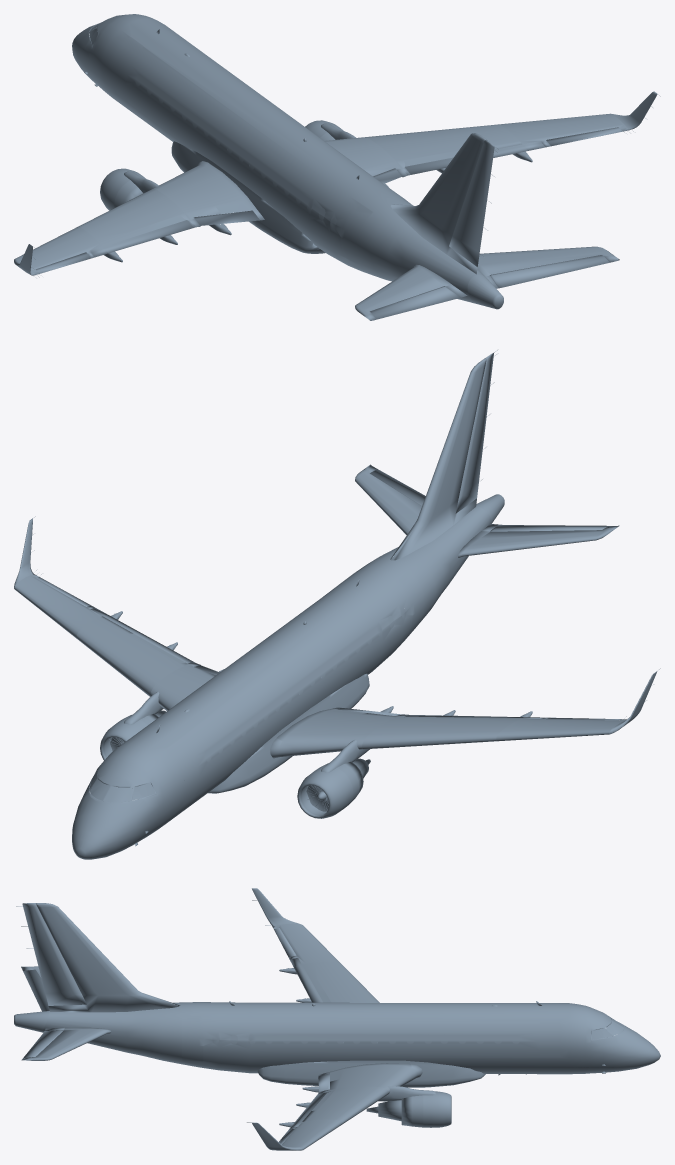
3 renders of one model, top to bottom at view 1: azimuth 30°, elevation 25°; view 2: azimuth 150°, elevation 25°; view 3: azimuth 270°, elevation 25°, orthographic. The views are drawn at different scales.
Bounding box in the file's own units: 25.56 × 9.46 × 29.8.
